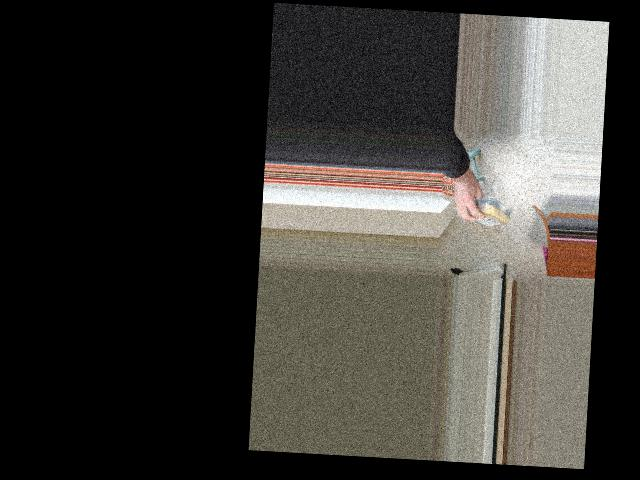cheese: (459, 195, 514, 230)
